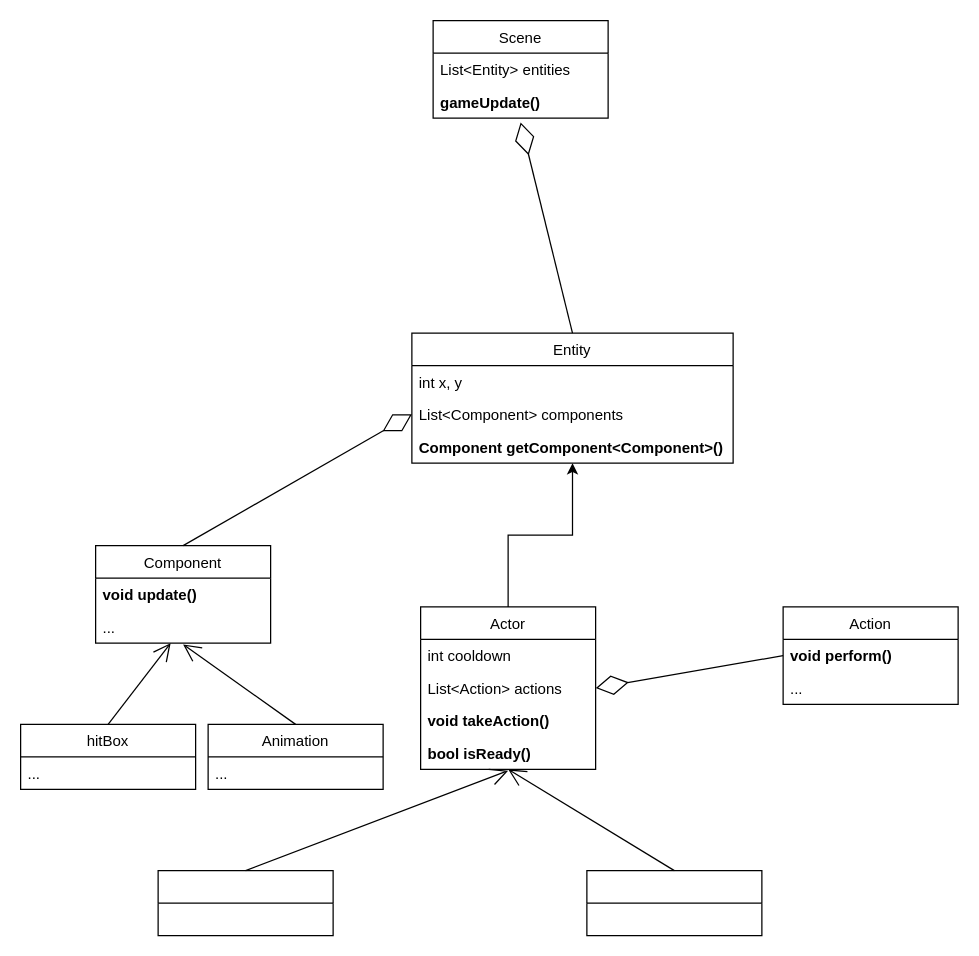
The diagram is 979 pixels wide and 956 high, and some of its shapes have lost their labels. Here are the shapes that lost their labels. From the top down, the centre of each, then its label:
At pixel 245 902: "Player".
At pixel 674 902: "Enemy".
